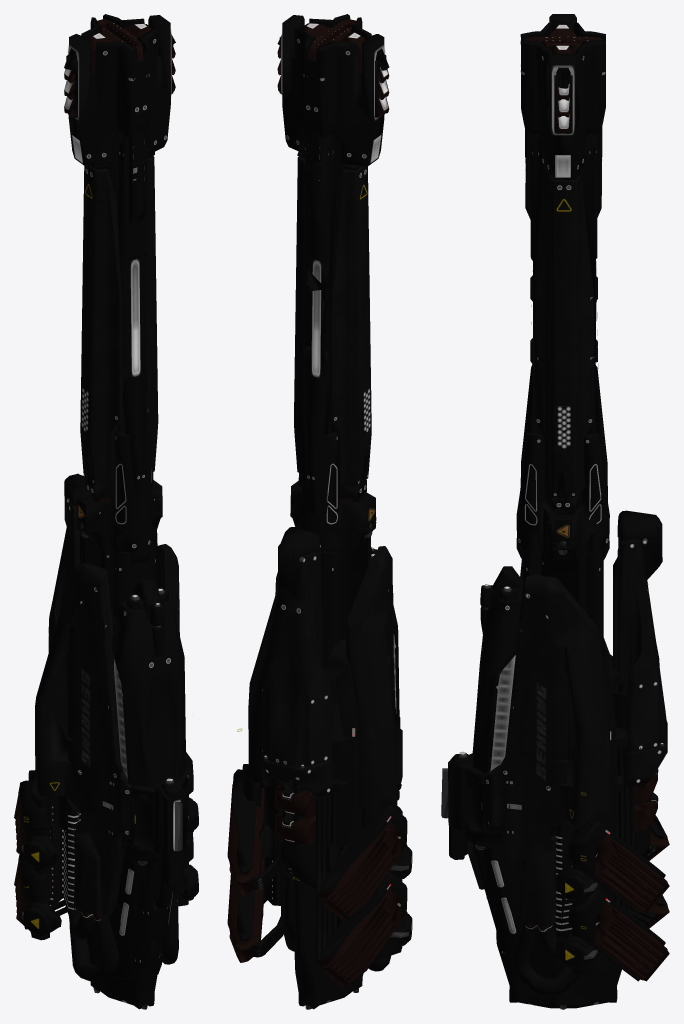
Rendered from m4a-cannon-defense-division.glb.
The picture shows the model from 3 angles, left to right: view 1: azimuth 30°, elevation 25°; view 2: azimuth 150°, elevation 25°; view 3: azimuth 270°, elevation 25°; orthographic projection.
Visible parts, largest first — view 1: BEHR_LaserCannon_S2; view 2: BEHR_LaserCannon_S2; view 3: BEHR_LaserCannon_S2.
Boxes of the visible parts, x1,y1,x2,y2 form: BEHR_LaserCannon_S2: [14, 14, 198, 1009]; BEHR_LaserCannon_S2: [227, 14, 412, 1009]; BEHR_LaserCannon_S2: [441, 14, 669, 1009].
Size of the model in its own units: 0.5285 by 2.8 by 0.5995.
8 materials, 4 textured.
